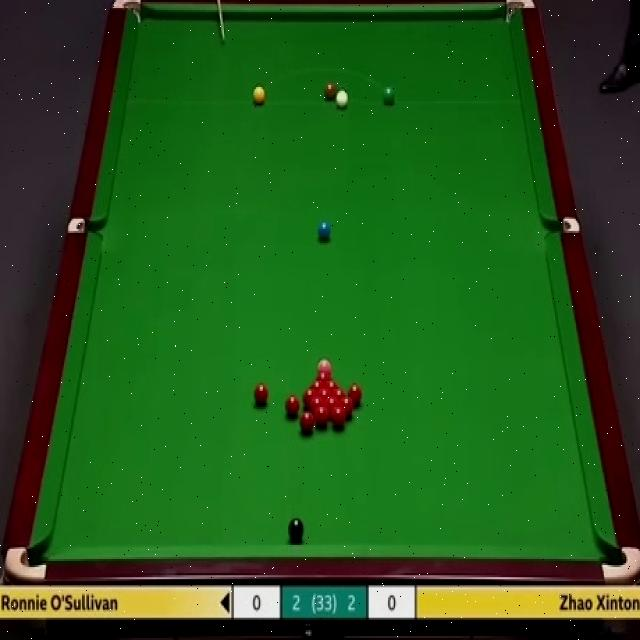black-ball: (286, 515, 304, 539)
blue-ball: (318, 222, 332, 239)
brown-ball: (325, 82, 336, 100)
green-ball: (381, 83, 396, 106)
pink-ball: (317, 361, 333, 377)
red-ball: (284, 393, 301, 416), (332, 405, 348, 428), (339, 396, 355, 419), (300, 410, 314, 436), (253, 383, 269, 405), (303, 388, 318, 410), (313, 406, 329, 425), (348, 385, 362, 406), (327, 378, 340, 398), (310, 380, 326, 393)
white-ball: (335, 90, 349, 107)
yellow-ball: (253, 85, 265, 106)
